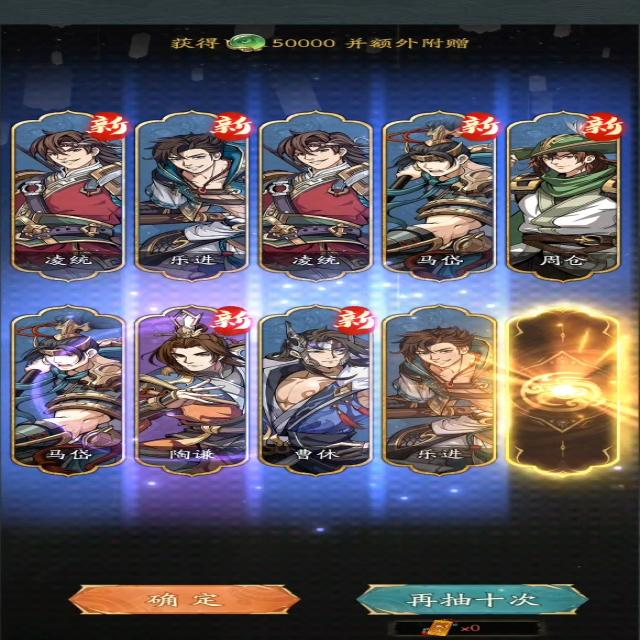operation-confirm: (67, 582, 301, 616)
operation-tenRecruit: (353, 583, 590, 616)
